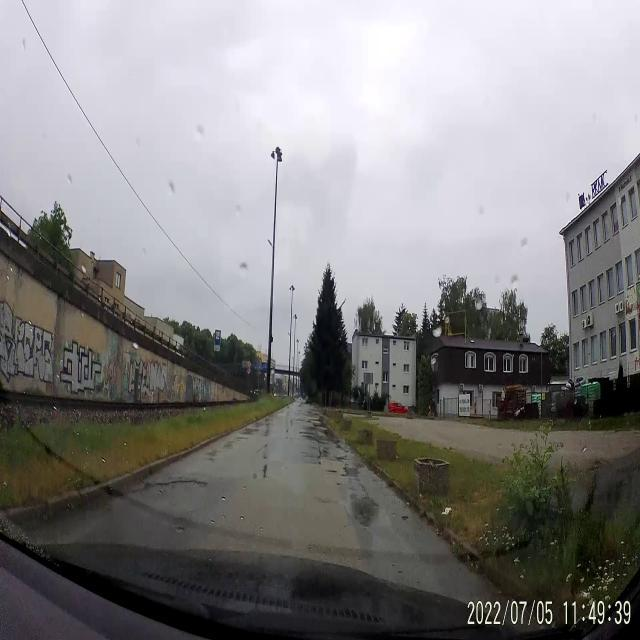Pothole: (134, 474, 210, 502), (323, 464, 339, 480), (399, 511, 410, 524)
